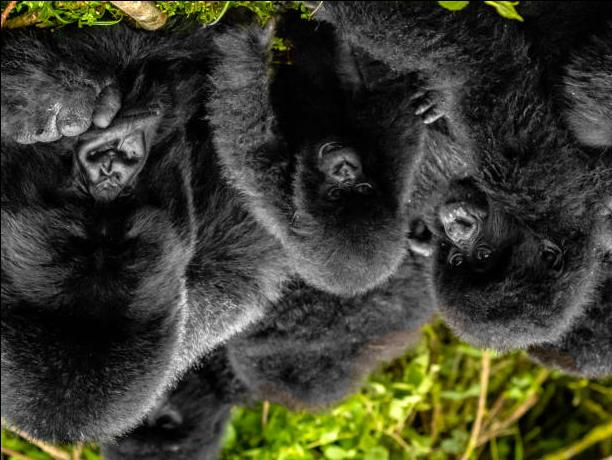goriile_montagne: (0, 0, 250, 443), (420, 6, 610, 362), (207, 4, 417, 324), (103, 367, 231, 460)
